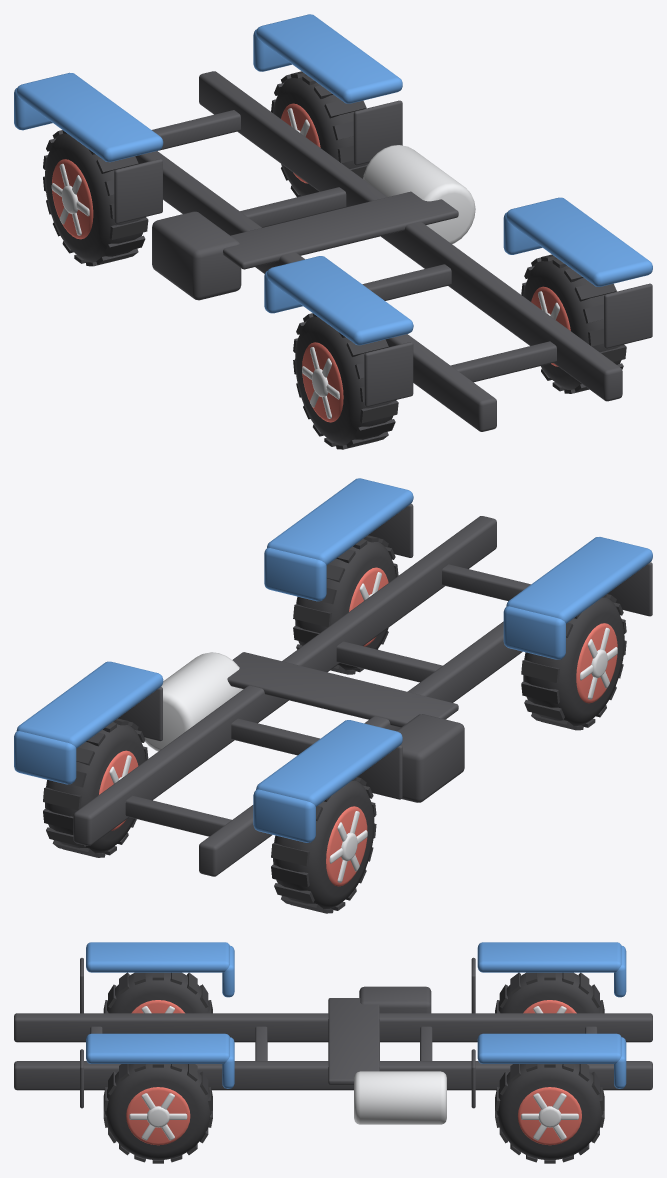
File: Podwozie_Cysterna.fbx
3 views of the same model, one above another, from view 1: azimuth 30°, elevation 25°; view 2: azimuth 150°, elevation 25°; view 3: azimuth 270°, elevation 25° (orthographic). The views are drawn at different scales.
Parts seen in each view (by area): view 1: body, wheel-front-right, wheel-back-right, wheel-back-left, wheel-front-left; view 2: body, wheel-back-right, wheel-front-right, wheel-front-left, wheel-back-left; view 3: body, wheel-front-left, wheel-back-left, wheel-front-right, wheel-back-right.
Part boxes in pixels (bbox=[...]): body: bbox=[14, 14, 652, 431]; wheel-front-right: bbox=[43, 130, 148, 266]; wheel-back-right: bbox=[293, 313, 398, 449]; wheel-back-left: bbox=[521, 254, 626, 393]; wheel-front-left: bbox=[271, 71, 369, 197]; body: bbox=[14, 478, 652, 876]; wheel-back-right: bbox=[521, 594, 626, 730]; wheel-front-right: bbox=[271, 777, 376, 913]; wheel-front-left: bbox=[43, 718, 148, 857]; wheel-back-left: bbox=[293, 535, 398, 674]; body: bbox=[14, 942, 652, 1124]; wheel-front-left: bbox=[495, 1064, 604, 1163]; wheel-back-left: bbox=[103, 1064, 212, 1163]; wheel-front-right: bbox=[495, 972, 604, 1013]; wheel-back-right: bbox=[103, 972, 212, 1013].
Size of the model in its own units: 2.62 by 1.24 by 6.2.
